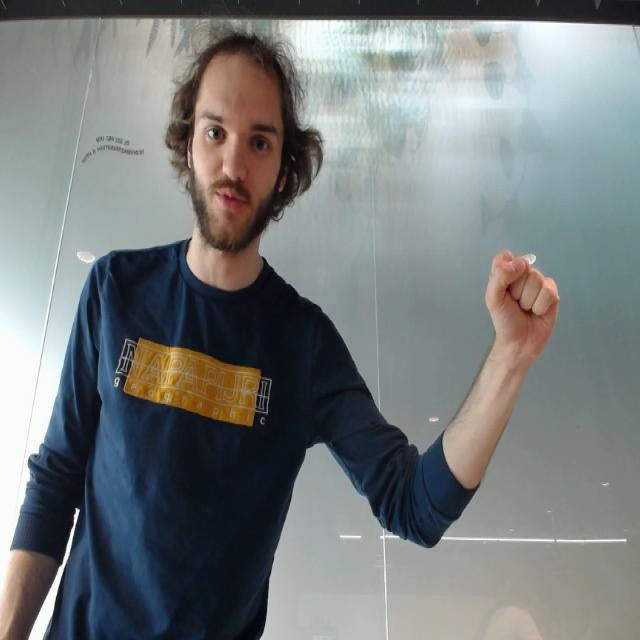stop: (480, 230, 564, 371)
